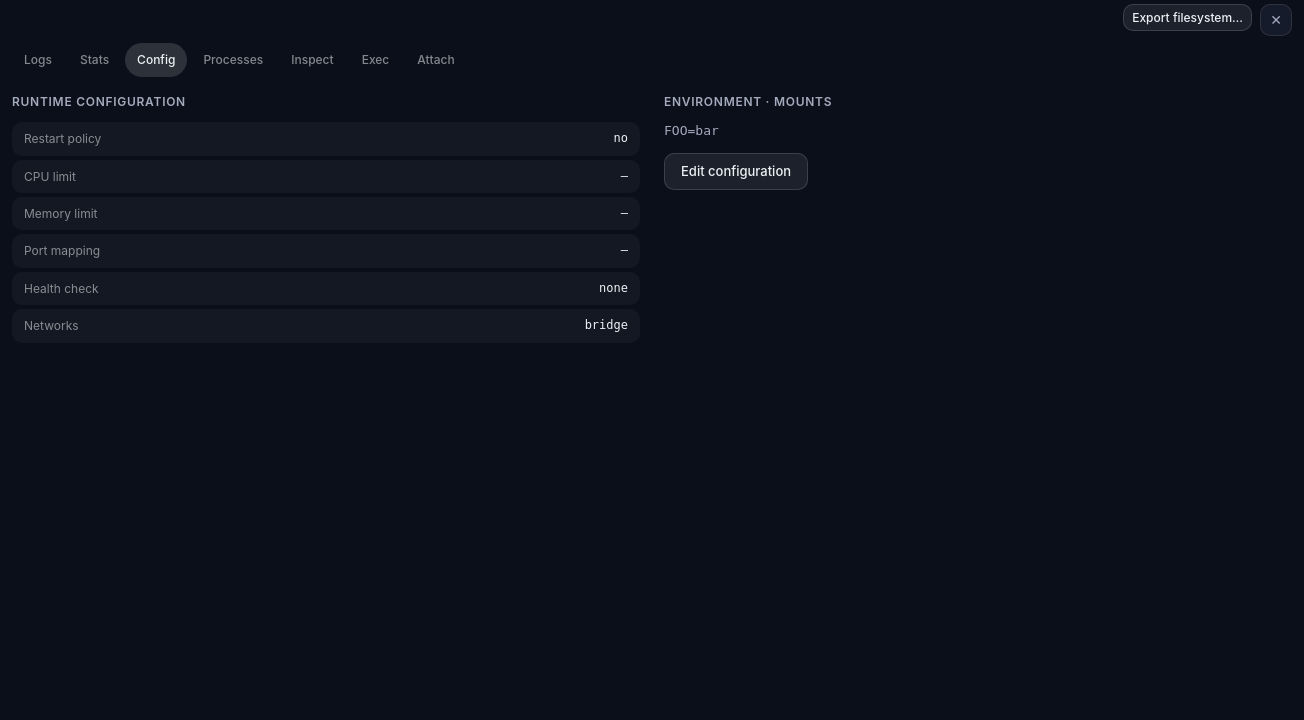
Test case: ContainerDetailPanel — Config tab (REQ-24, REQ-25) › applies a restart-policy-only change in place, without asking for confirmation
Click the button "Edit configuration". click: (736, 171)
box: [664,153,808,190]
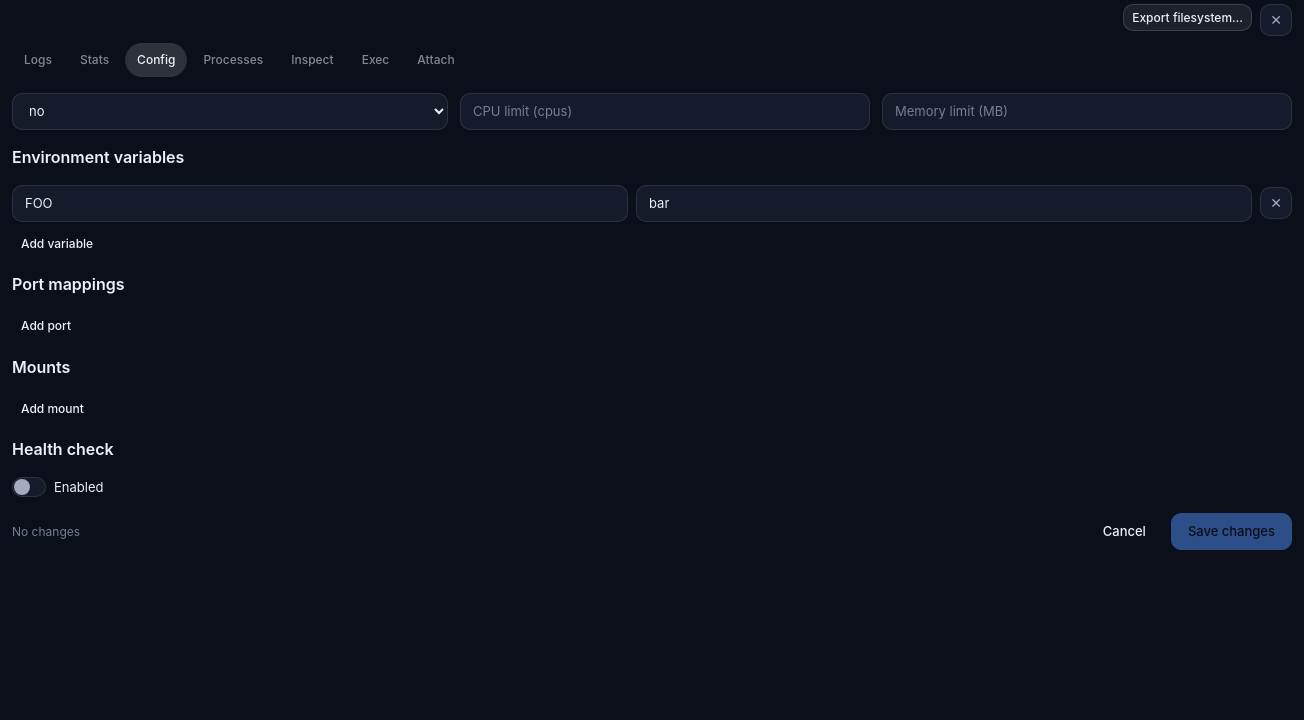
Select "always" in the dropdown named "Restart policy". click: (230, 111)
box: [12,93,448,130]
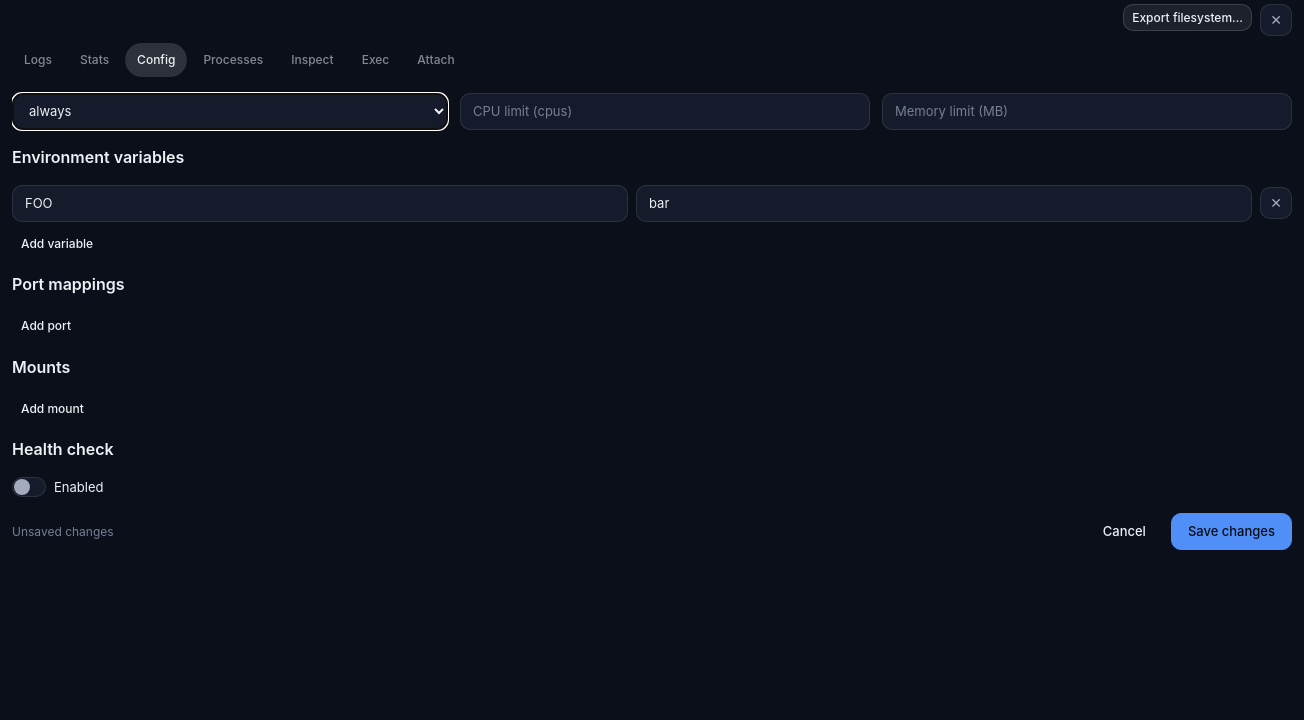
Click the button "Save changes". click: (1231, 532)
box: [1171,513,1292,550]
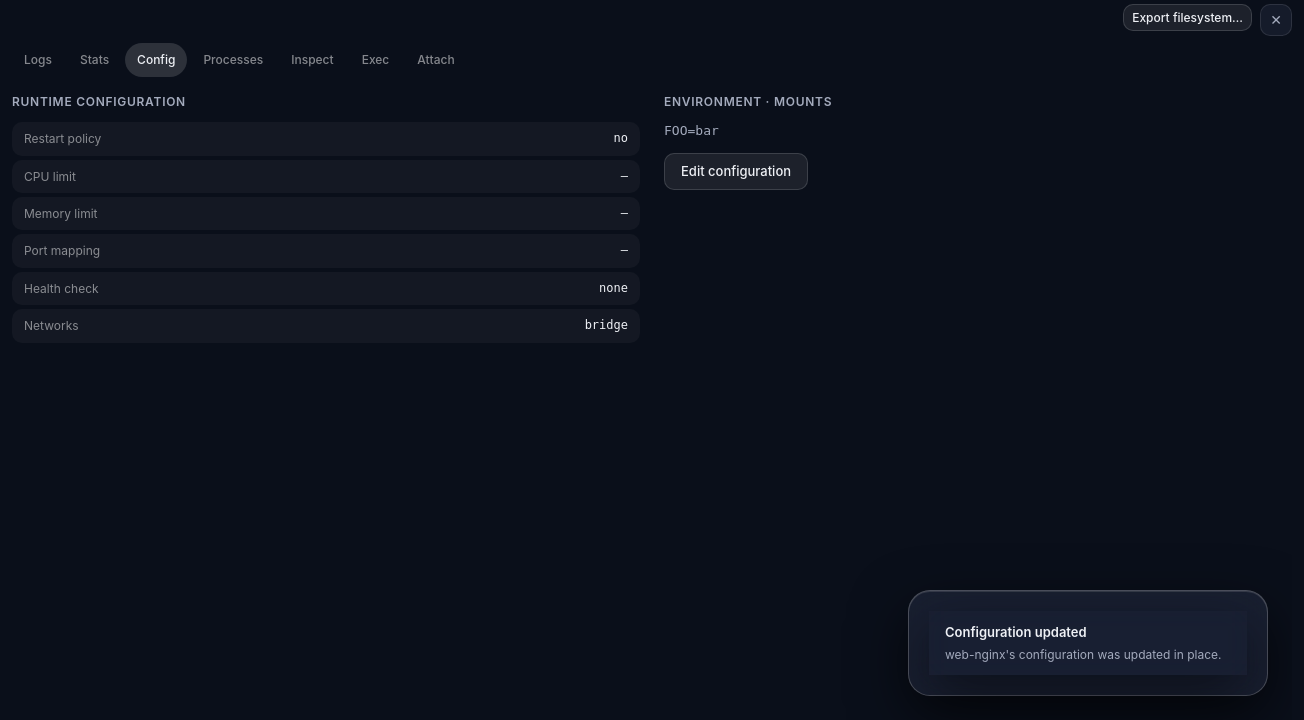
Check: the element with class "ui-toast-viewport" shows "Configuration updated", box [945,624,1087,640]
